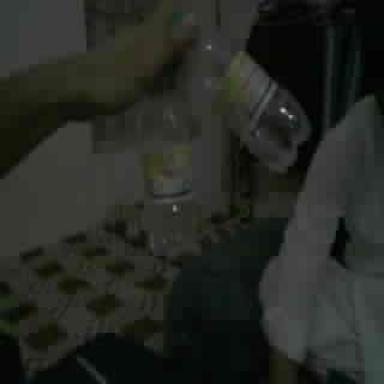bottle: (187, 32, 311, 171), (139, 93, 196, 254)
